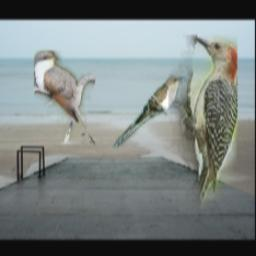Cuckoo: (34, 52, 95, 145), (113, 76, 188, 150)
Woodpecker: (170, 35, 238, 209)
